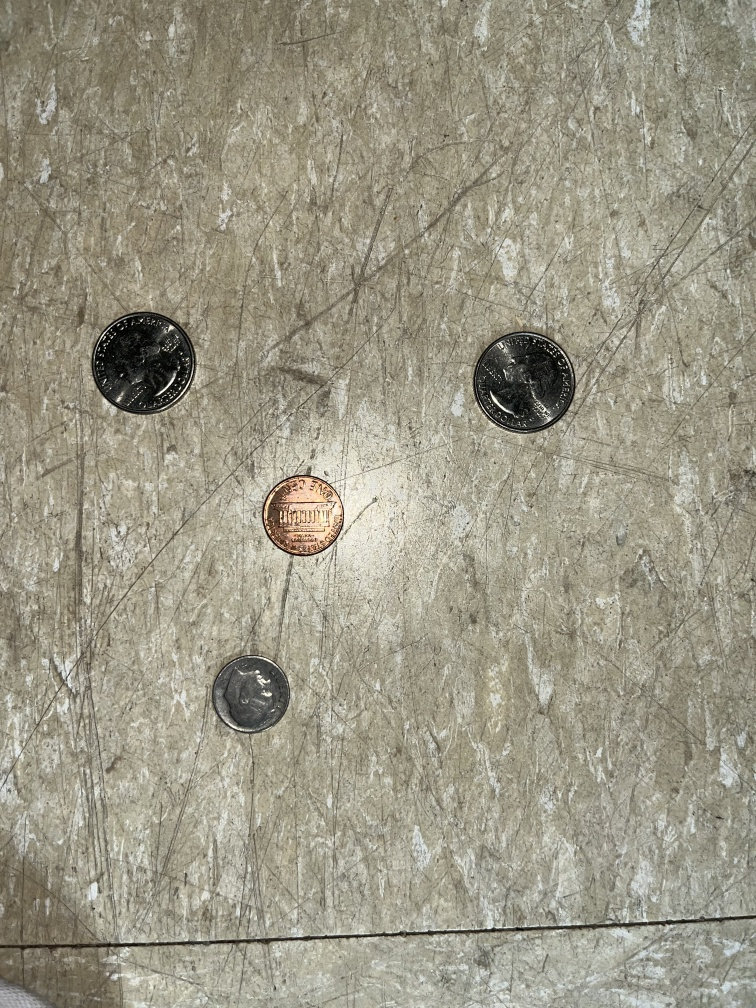dime: (206, 651, 294, 737)
penny: (258, 470, 348, 559)
quarter: (471, 328, 578, 436), (91, 310, 198, 415)
